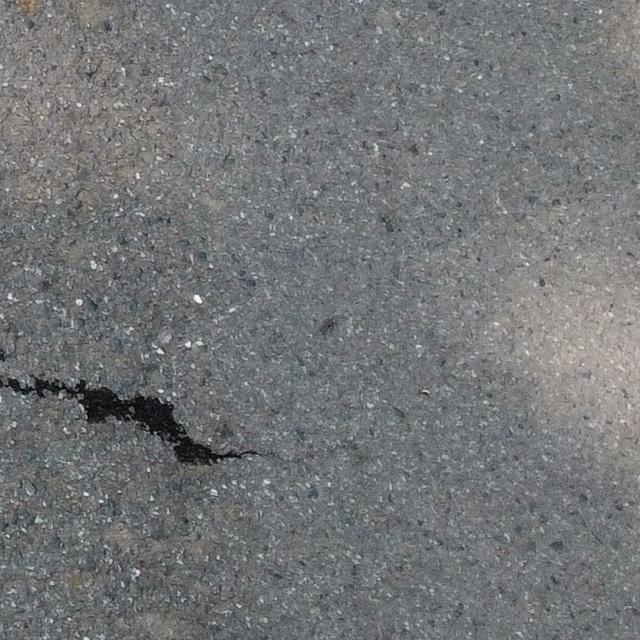TransverseCrack: (1, 375, 263, 465)
